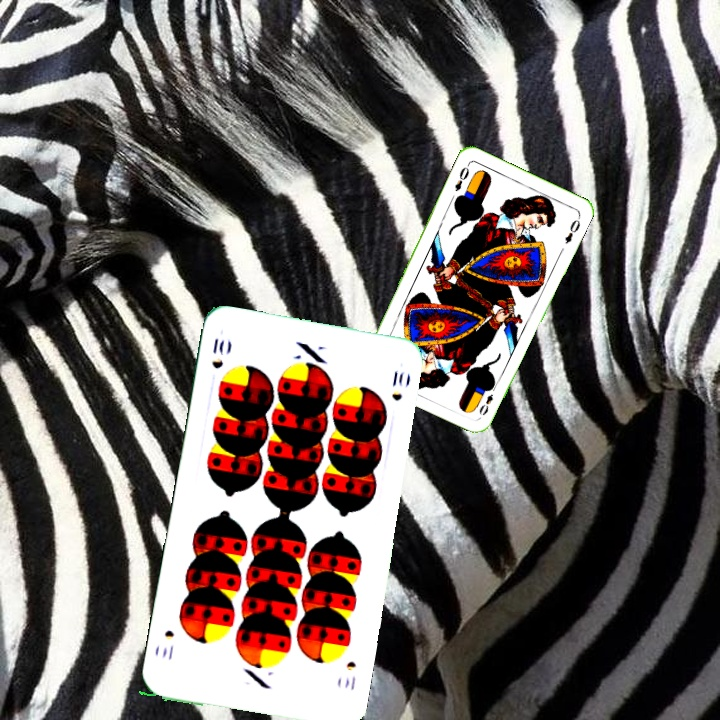EO: (475, 381, 499, 418), (451, 160, 472, 194)
S10: (208, 334, 231, 371), (340, 656, 359, 694)
